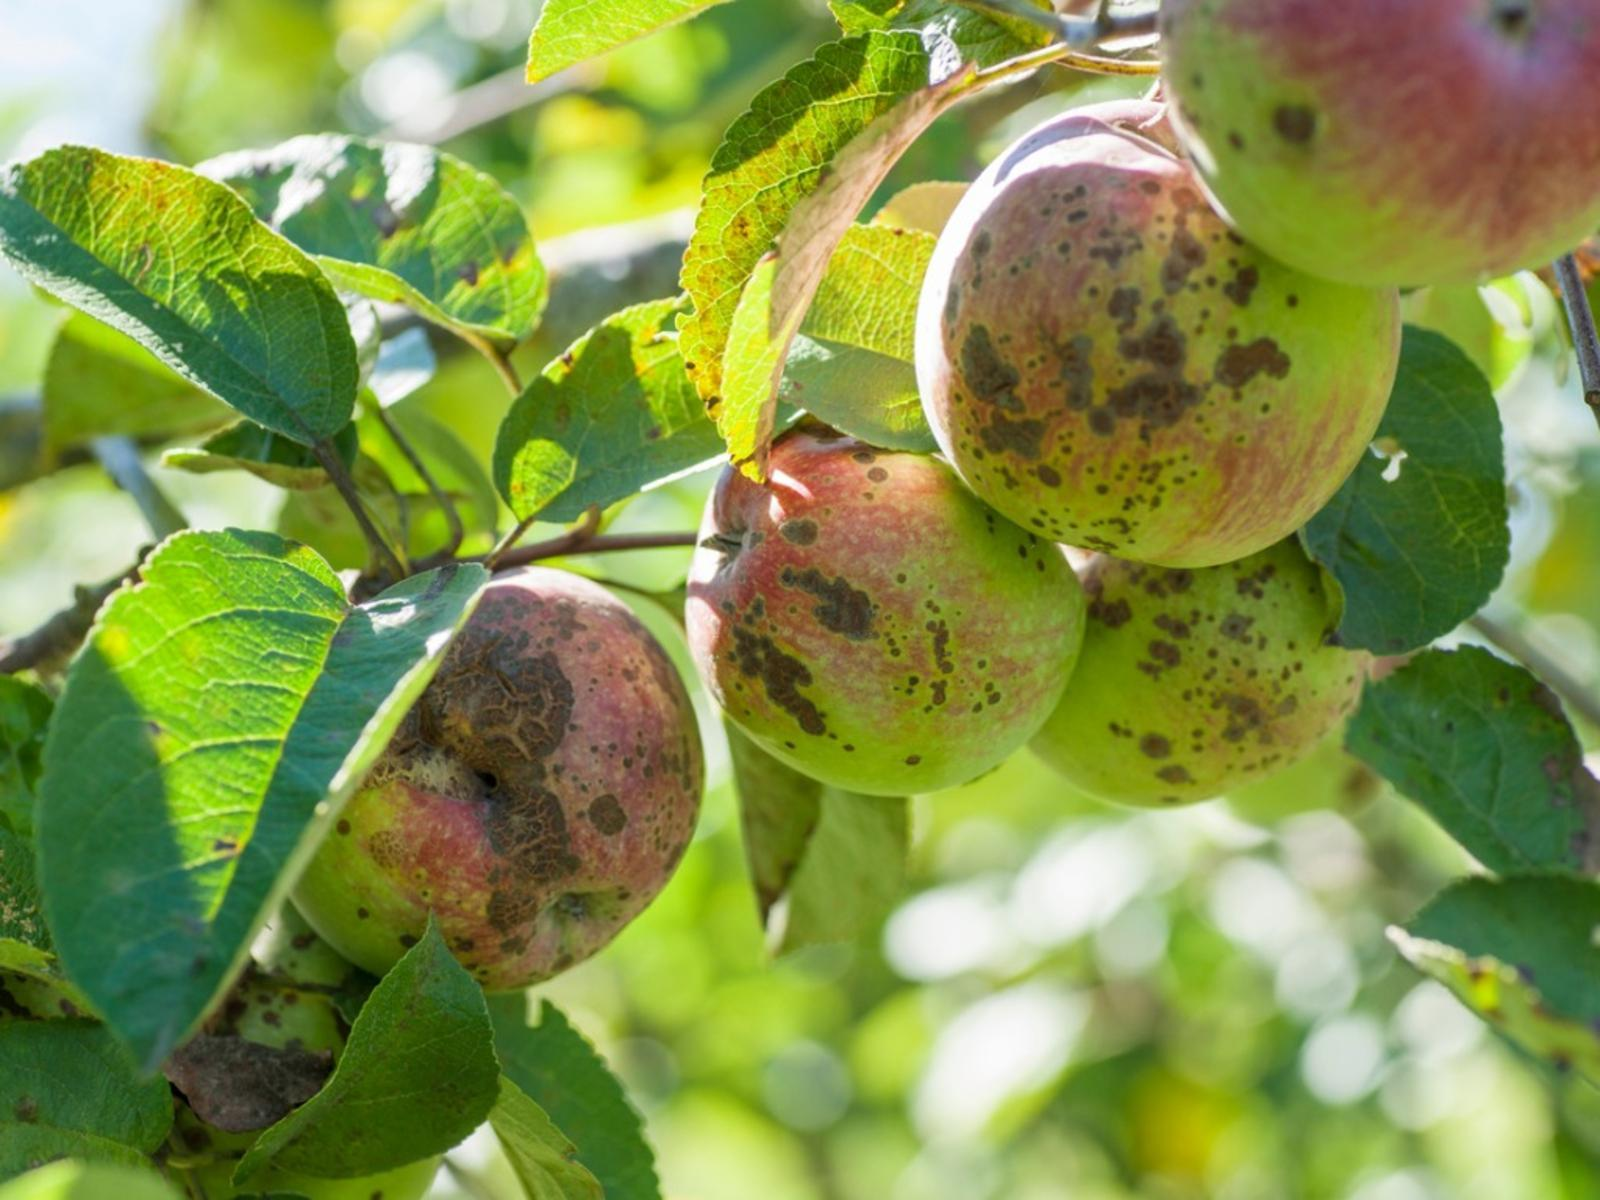apple: (903, 95, 1407, 568), (256, 556, 700, 1006), (680, 413, 1089, 799), (1151, 1, 1592, 297), (1029, 550, 1376, 814)
